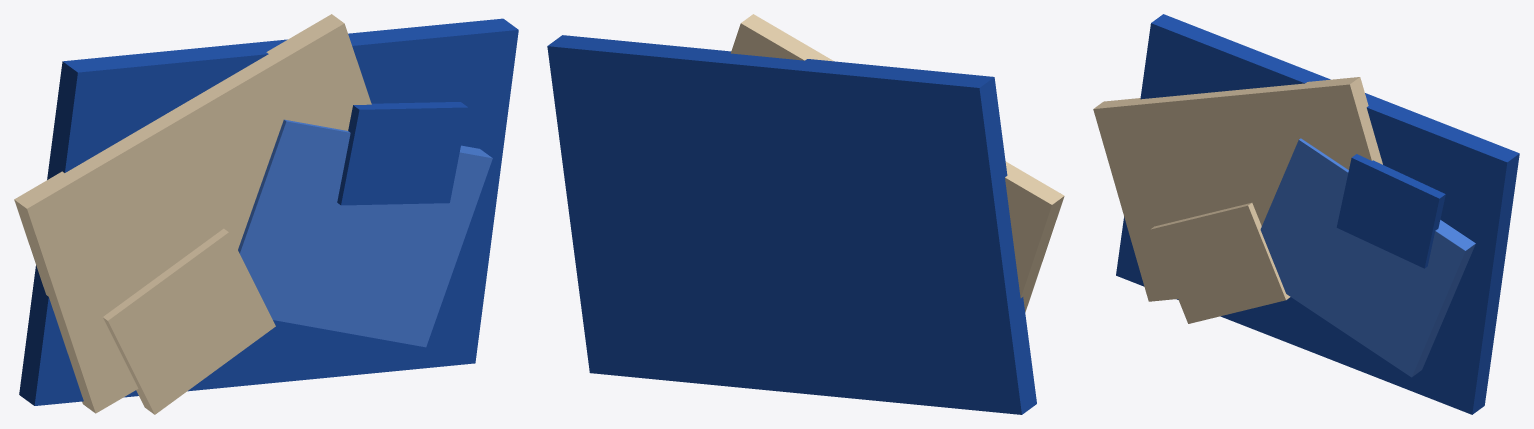
The model's file is 04_blue_cloth_bundle.obj.
3 renders of one model, left to right at view 1: azimuth 30°, elevation 25°; view 2: azimuth 150°, elevation 25°; view 3: azimuth 330°, elevation 25°, orthographic. The views are drawn at different scales.
Visible parts, largest first — view 1: blue_cloth_bundle_piece_1, blue_cloth_bundle_piece_0, blue_cloth_bundle_piece_2, blue_cloth_bundle_piece_3, blue_cloth_bundle_piece_4; view 2: blue_cloth_bundle_piece_0, blue_cloth_bundle_piece_1; view 3: blue_cloth_bundle_piece_0, blue_cloth_bundle_piece_1, blue_cloth_bundle_piece_2, blue_cloth_bundle_piece_3, blue_cloth_bundle_piece_4.
Part boxes in pixels (x1,y1,x2,y2): blue_cloth_bundle_piece_1: (14, 14, 371, 413); blue_cloth_bundle_piece_0: (19, 18, 518, 405); blue_cloth_bundle_piece_2: (238, 119, 492, 347); blue_cloth_bundle_piece_3: (103, 228, 275, 414); blue_cloth_bundle_piece_4: (337, 102, 468, 205); blue_cloth_bundle_piece_0: (547, 35, 1036, 414); blue_cloth_bundle_piece_1: (731, 14, 1064, 311); blue_cloth_bundle_piece_0: (1116, 14, 1519, 414); blue_cloth_bundle_piece_1: (1093, 77, 1382, 301); blue_cloth_bundle_piece_2: (1260, 138, 1475, 377); blue_cloth_bundle_piece_3: (1150, 202, 1290, 323); blue_cloth_bundle_piece_4: (1336, 154, 1445, 268).
Bounding box in the file's own units: 0.2255 × 0.1665 × 0.025.
